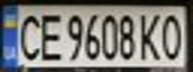0: (100, 11, 121, 62)
6: (81, 10, 103, 62)
8: (118, 10, 139, 61)
9: (60, 10, 84, 62)
C: (12, 9, 45, 62)
E: (33, 9, 63, 62)
K: (136, 10, 163, 62)
O: (157, 10, 187, 61)
